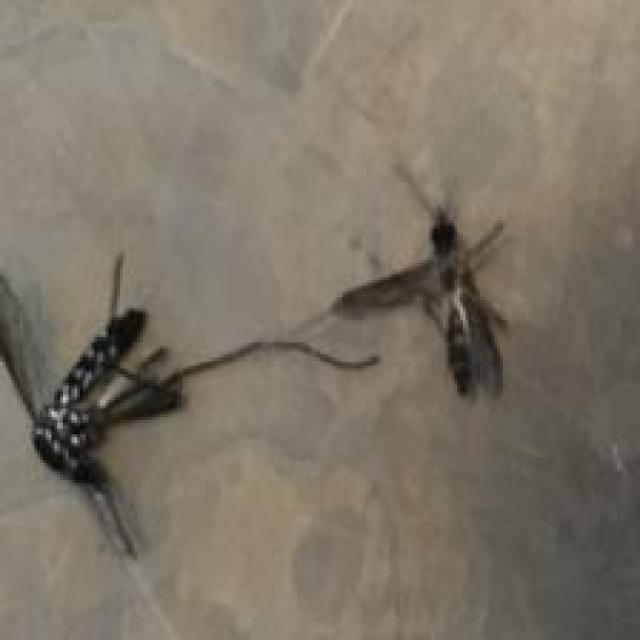Aedes albopictus: (0, 249, 380, 560)
